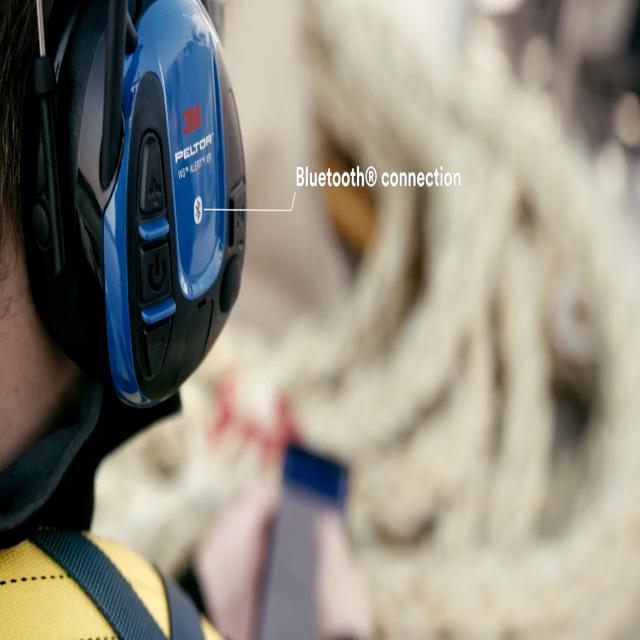earmuff: (16, 0, 249, 420)
